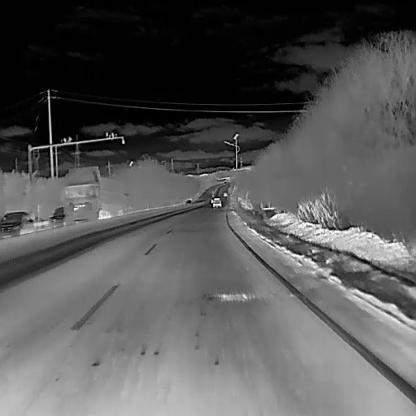car: (64, 167, 131, 220), (0, 210, 32, 236), (211, 196, 222, 207)
